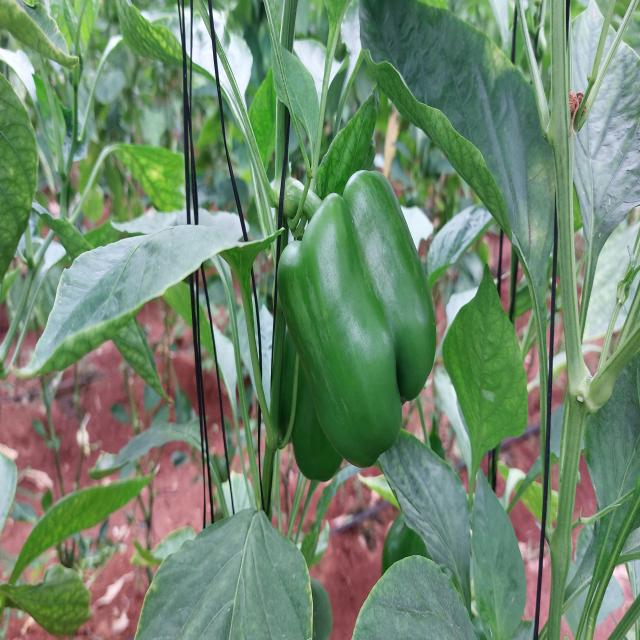Green--Not-ready-to-harvest: (266, 179, 438, 485)
